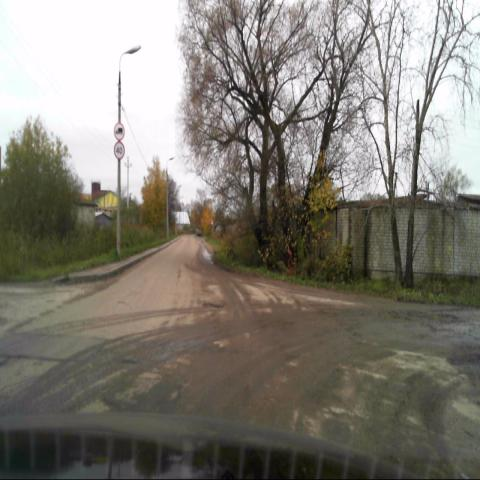3_24: (114, 141, 125, 159)
3_4_1: (114, 123, 125, 141)
